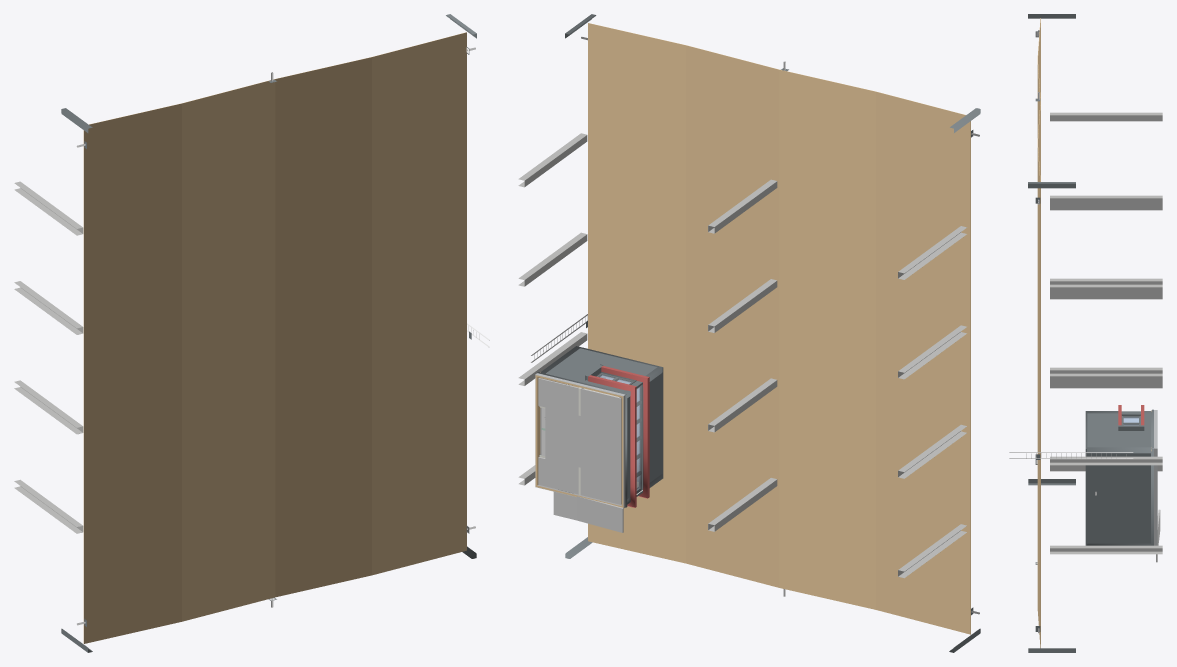
File: tlc5.3.gltf
3 views of the same model, side by side, from view 1: azimuth 30°, elevation 25°; view 2: azimuth 150°, elevation 25°; view 3: azimuth 270°, elevation 25° (orthographic). The views are drawn at different scales.
Visible parts, largest first — view 1: (Ext)_(Ins-Polymeric membrane) _Roof (×4); view 2: (Ext)_(Cement particle board)_Roof (×4), (FL)-In_(С-80)_Styagka_Holl (×2), (FL)-In_(C-78)_WC (×2), (Ext)_(Ins-120)_Sandwich panels (RAL7016) 1190 мм (×2), FL)-In_100(C-80.Fin-20)_R11; view 3: Dedasting (×22), (Ext)_(Ins-120)_Sandwich panels (RAL7016) 1190 мм (×8), (Ext)_(Ins-Polymeric membrane) _Roof, (SC)-Batten_RAL 7016 (×3), (Ext)_(Cement particle board)_Roof (×2), (WL)-Ext_(Ins-20)_otdelka cokolya, Standart, (SC)-Batten_RAL7016.
Boxes of the visible parts, <box> form: (Ext)_(Ins-Polymeric membrane) _Roof (×4): <box>84,32,466,643</box>; (Ext)_(Cement particle board)_Roof (×4): <box>588,23,970,634</box>; (FL)-In_(С-80)_Styagka_Holl (×2): <box>538,378,621,504</box>; (FL)-In_(C-78)_WC (×2): <box>538,407,580,494</box>; (Ext)_(Ins-120)_Sandwich panels (RAL7016) 1190 мм (×2): <box>572,348,661,479</box>; FL)-In_100(C-80.Fin-20)_R11: <box>576,496,623,532</box>; Dedasting (×22): <box>1050,112,1162,554</box>; (Ext)_(Ins-120)_Sandwich panels (RAL7016) 1190 мм (×8): <box>1087,413,1150,543</box>; (Ext)_(Ins-Polymeric membrane) _Roof: <box>1037,147,1040,647</box>; (SC)-Batten_RAL 7016 (×3): <box>1028,182,1151,485</box>; (Ext)_(Cement particle board)_Roof (×2): <box>1037,18,1040,647</box>; (WL)-Ext_(Ins-20)_otdelka cokolya: <box>1154,448,1157,545</box>; Standart: <box>1009,452,1133,458</box>; (SC)-Batten_RAL7016: <box>1151,447,1153,545</box>.
Size of what is drawn, in the model's own units: 82.52 by 106 by 30.74.
